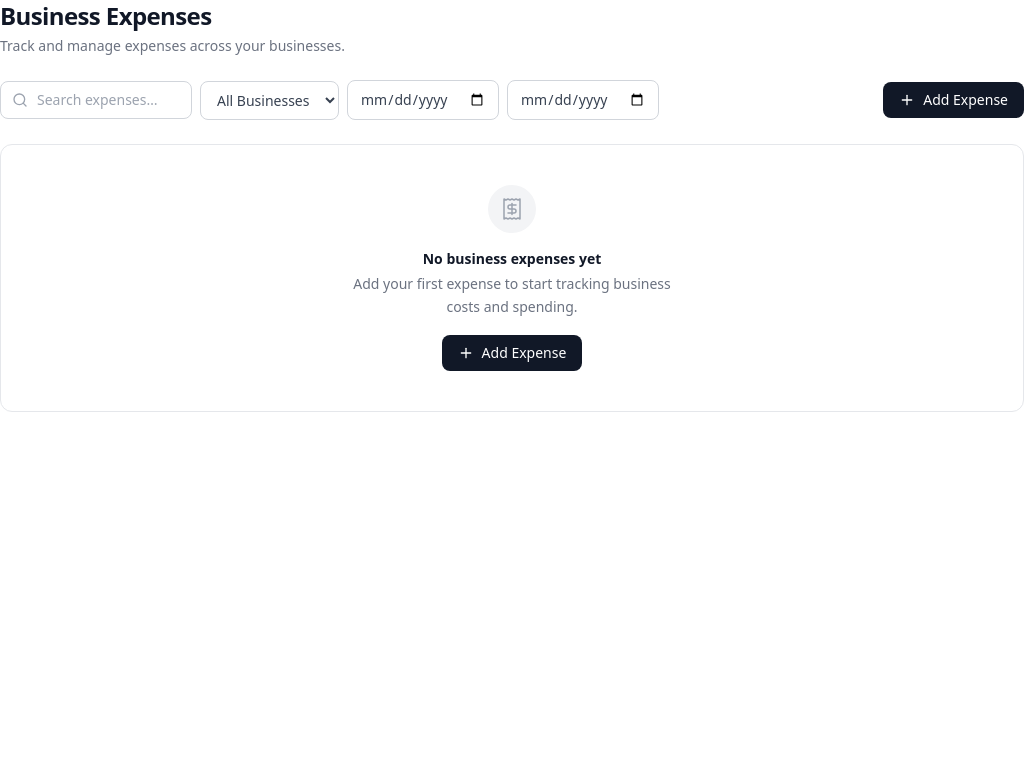
Test: BusinessExpensesPage — create › shows validation error when no business is selected
This screenshot has width=1024, height=768.
Check: the heading "No business expenses yet" is shown, box [423,249,601,269]
Click the 1st button "Add Expense" at (954, 100), box [883,82,1023,118]
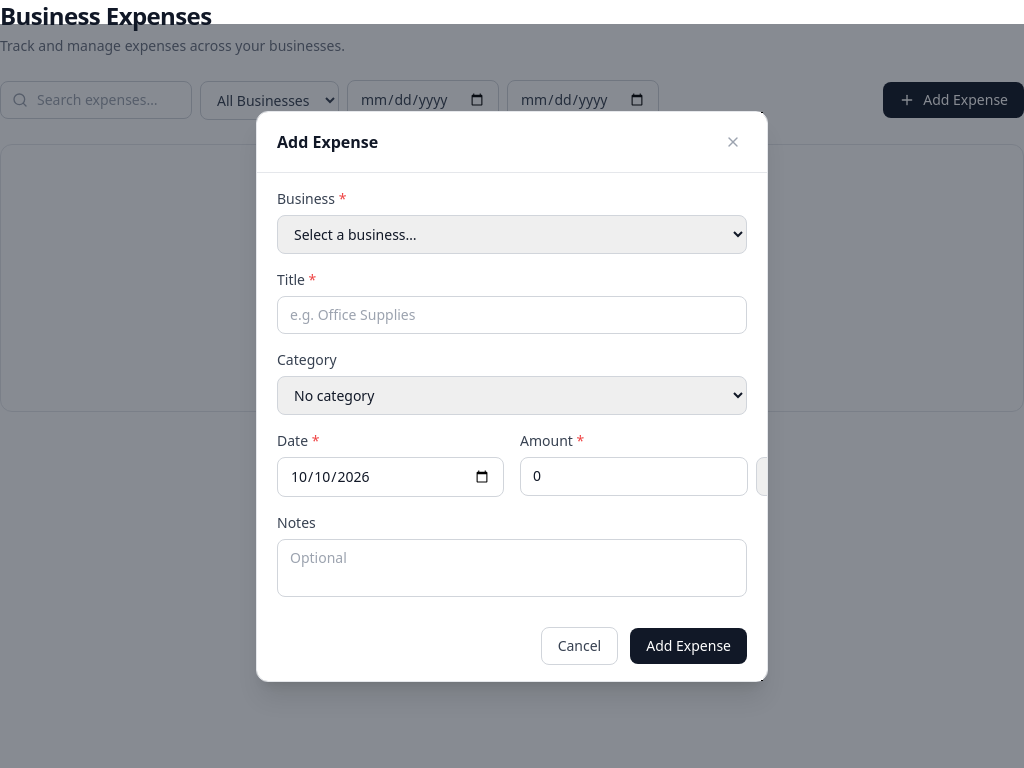
Check: the dialog is shown, box [256,110,768,682]
Type "Test Expense" into the field labelled "Title *" at (512, 314), box [277,296,747,334]
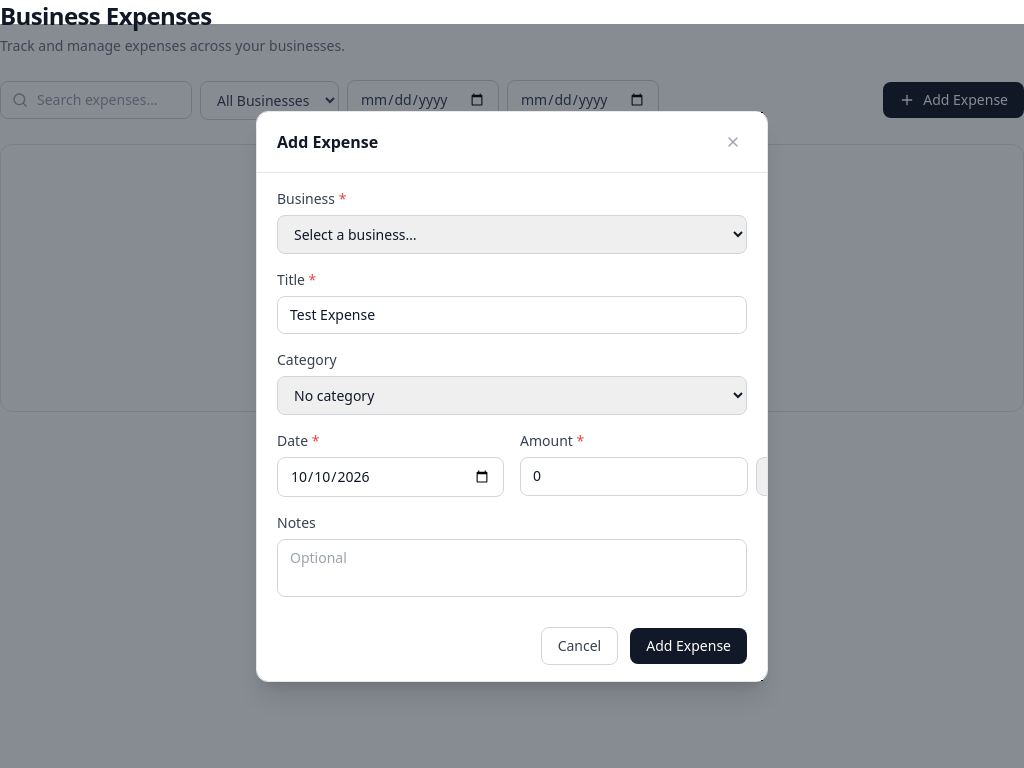
Click the button "Add Expense" at (689, 646), box [630,628,747,664]
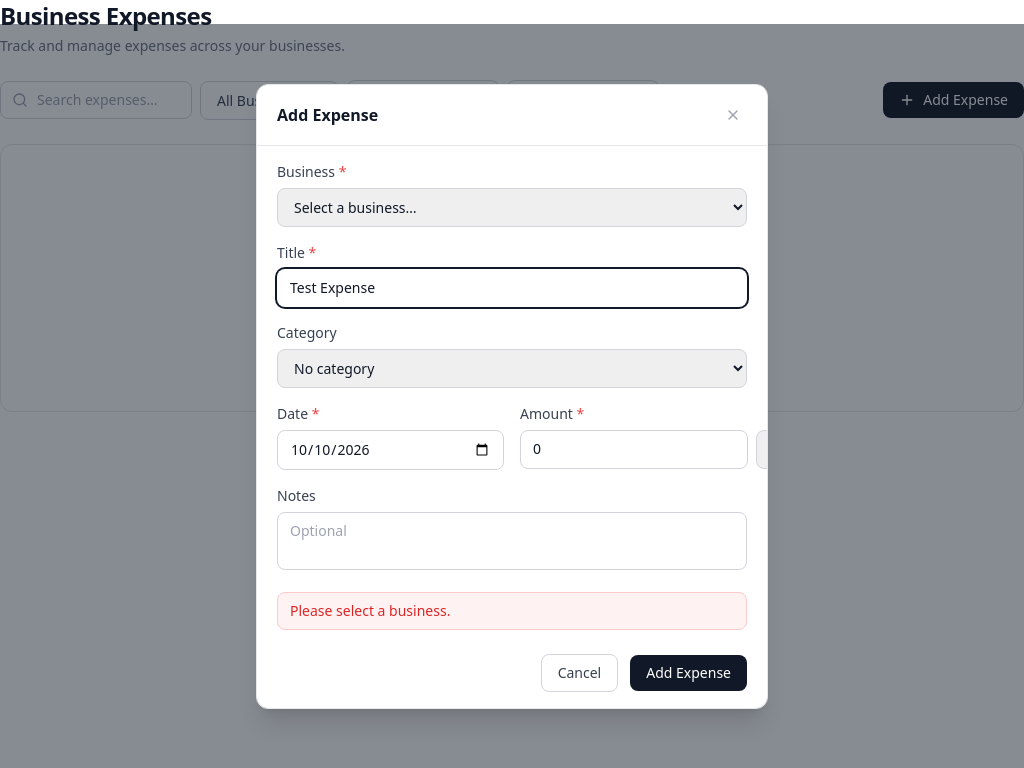
Check: the text "Please select a business." is shown, box [277,592,747,630]
